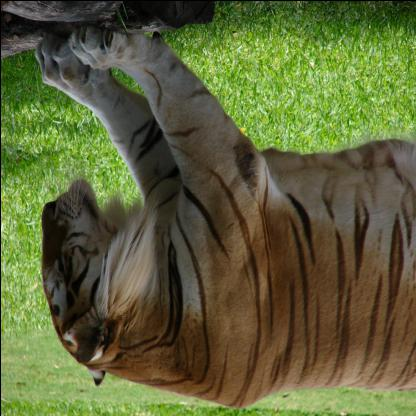tiger: (33, 164, 127, 378)
